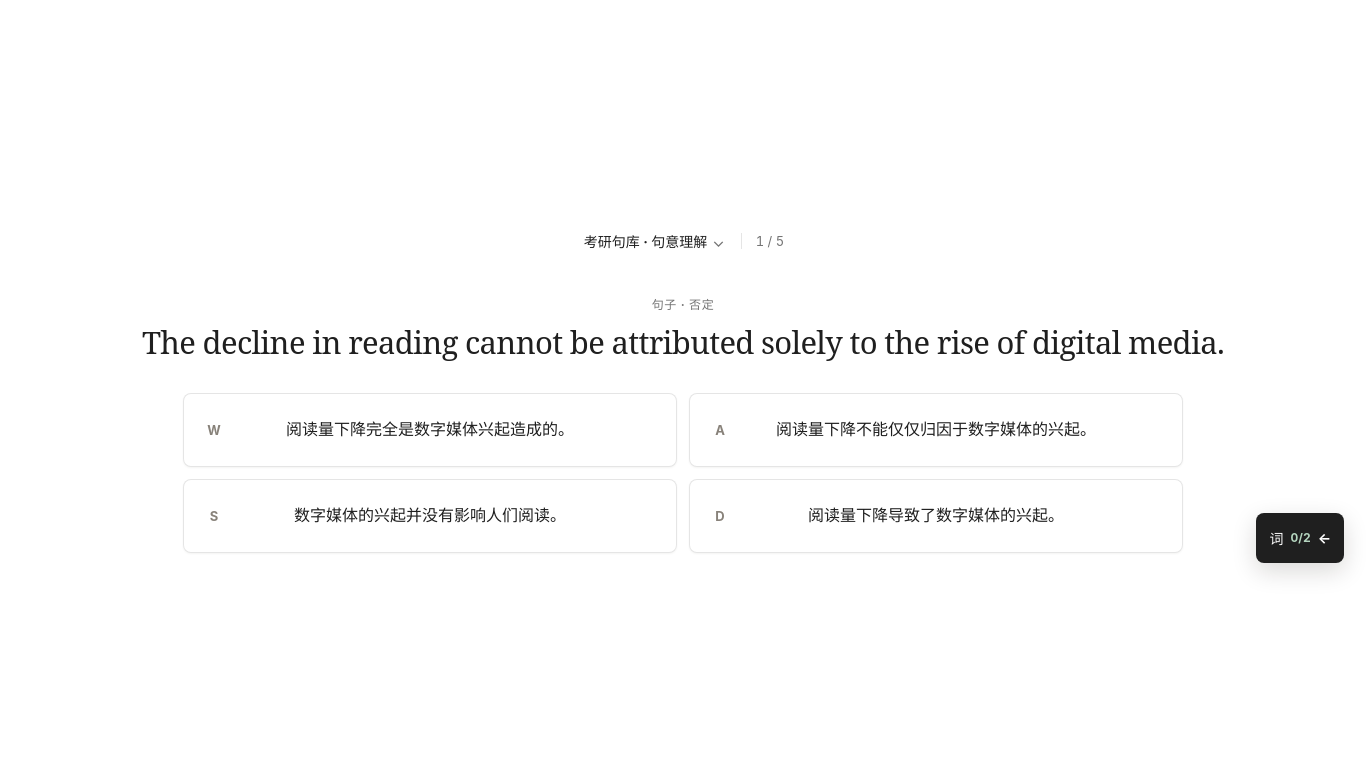
Test case: training flow › clears saved progress only after explicit confirmation
Click the button with aria-label "选择词库和类型" at (654, 241), box [582,221,727,261]
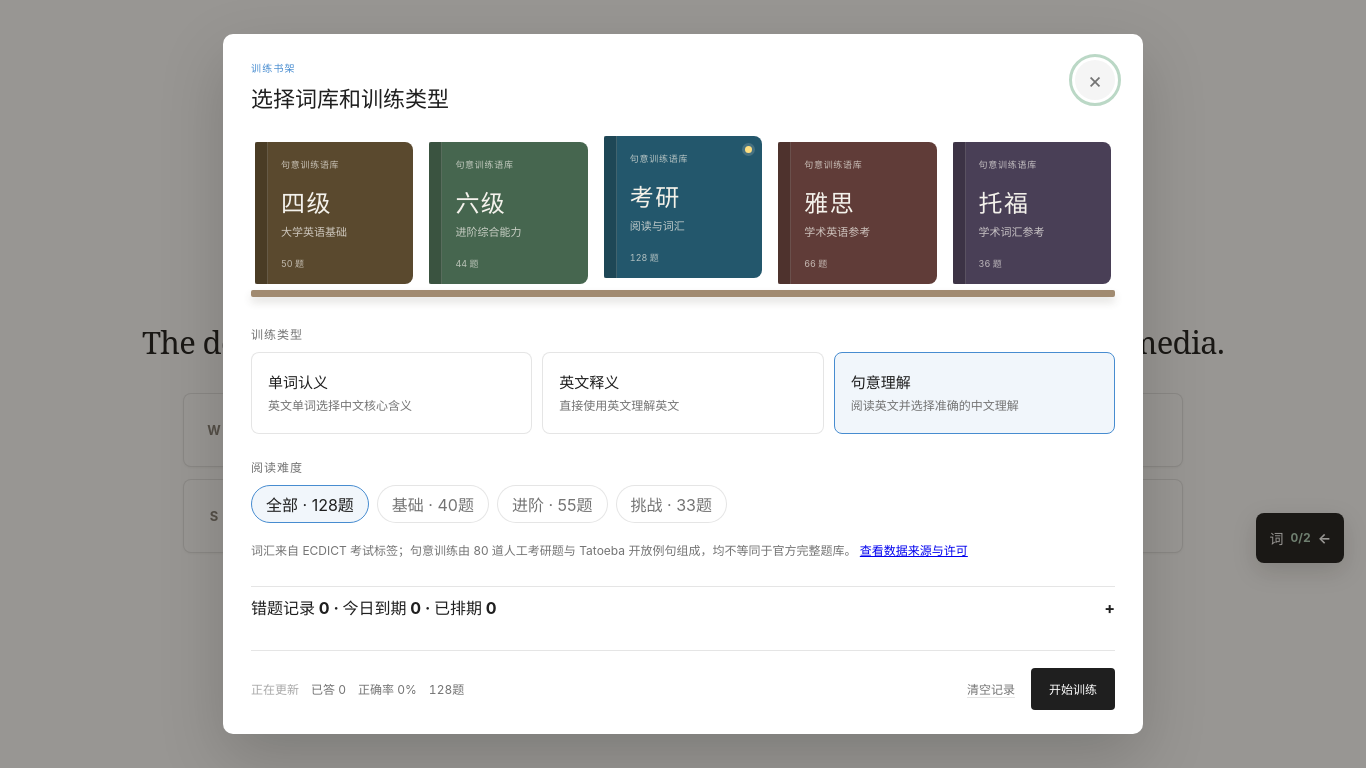
Click the button "清空记录" at (991, 689), box [963,669,1019,709]
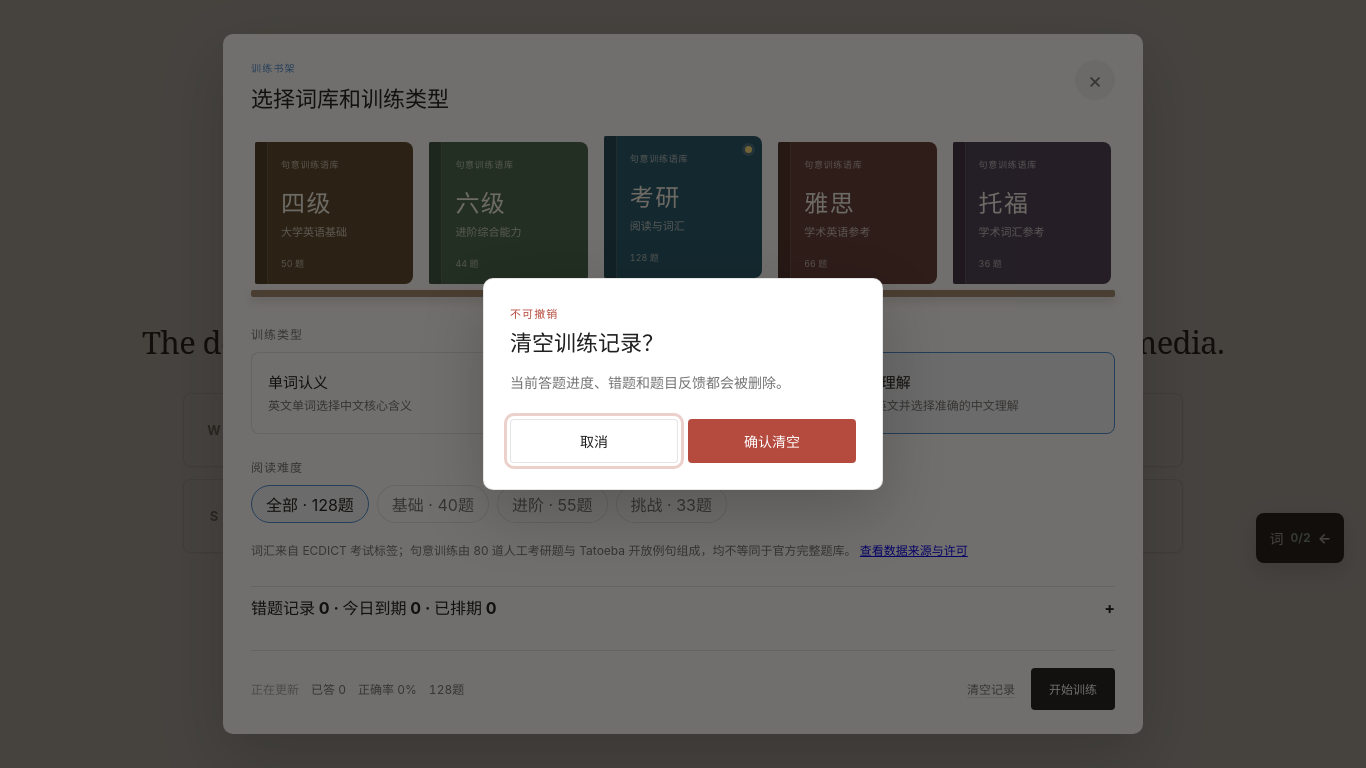
Click the button "确认清空" at (772, 441), box [688,419,856,463]
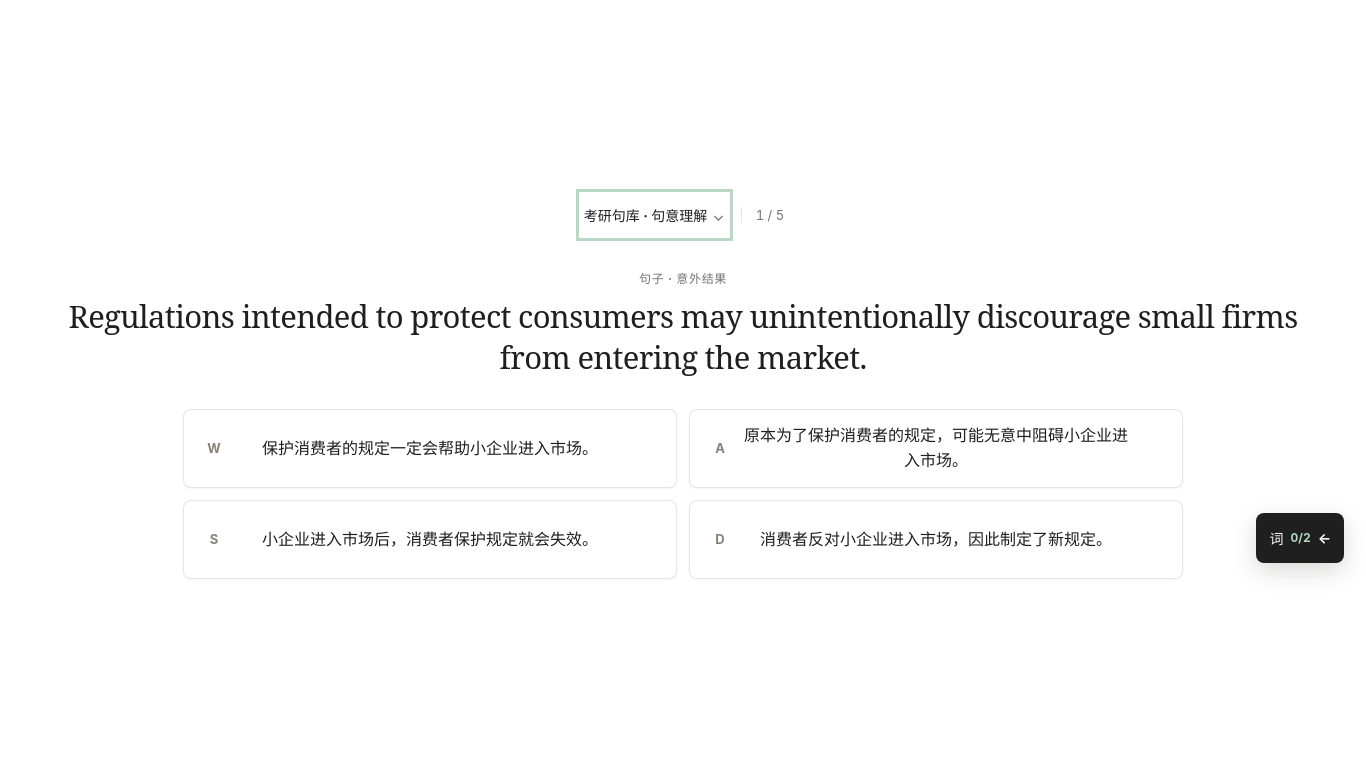
Expected: the dialog is gone
